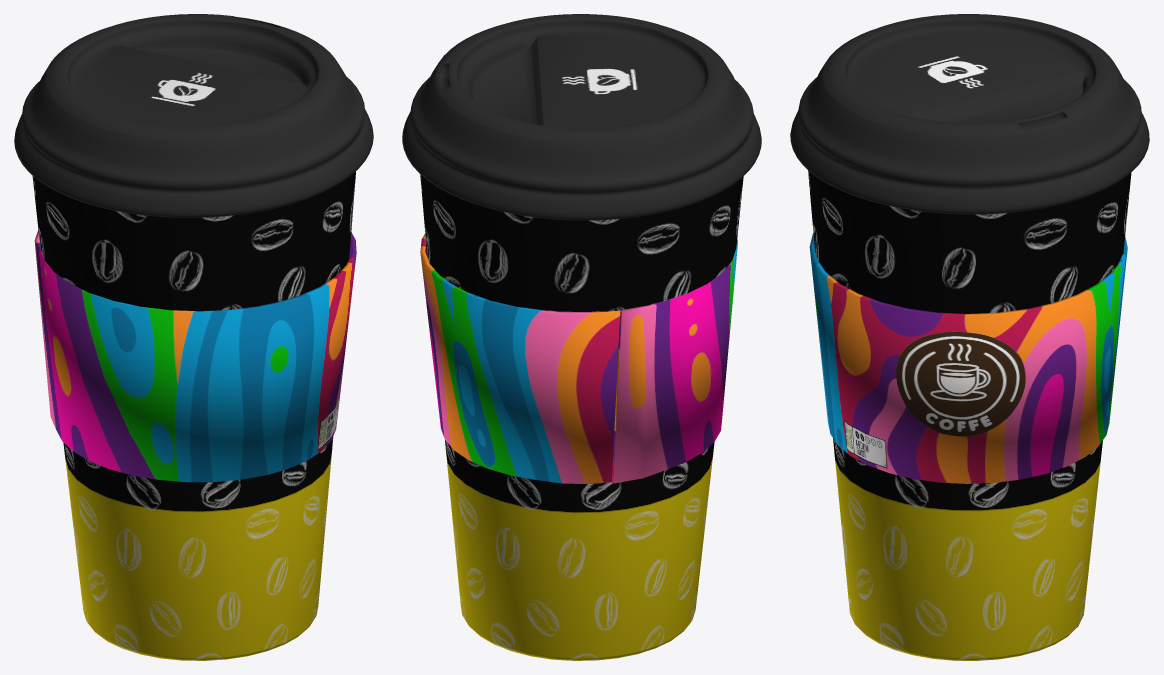
The model's file is coffe5.glb.
3 renders of one model, left to right at view 1: azimuth 30°, elevation 25°; view 2: azimuth 150°, elevation 25°; view 3: azimuth 270°, elevation 25°, orthographic.
Visible parts, largest first — view 1: CoffeCup, CoffeCupTap, Label; view 2: CoffeCup, CoffeCupTap, Label; view 3: CoffeCup, CoffeCupTap, Label.
Boxes of the visible parts, box(x1,y1,x2,y2) form: CoffeCup: box(32, 171, 355, 660); CoffeCupTap: box(14, 14, 373, 217); Label: box(34, 230, 356, 482); CoffeCup: box(420, 174, 743, 660); CoffeCupTap: box(402, 14, 761, 220); Label: box(420, 233, 737, 483); CoffeCup: box(808, 170, 1131, 660); CoffeCupTap: box(790, 14, 1149, 214); Label: box(809, 233, 1127, 483).
Size of the model in its own units: 0.3698 by 0.6193 by 0.3698.
3 materials, 3 textured.
